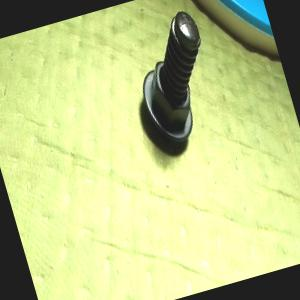parafuso: (122, 5, 226, 148)
